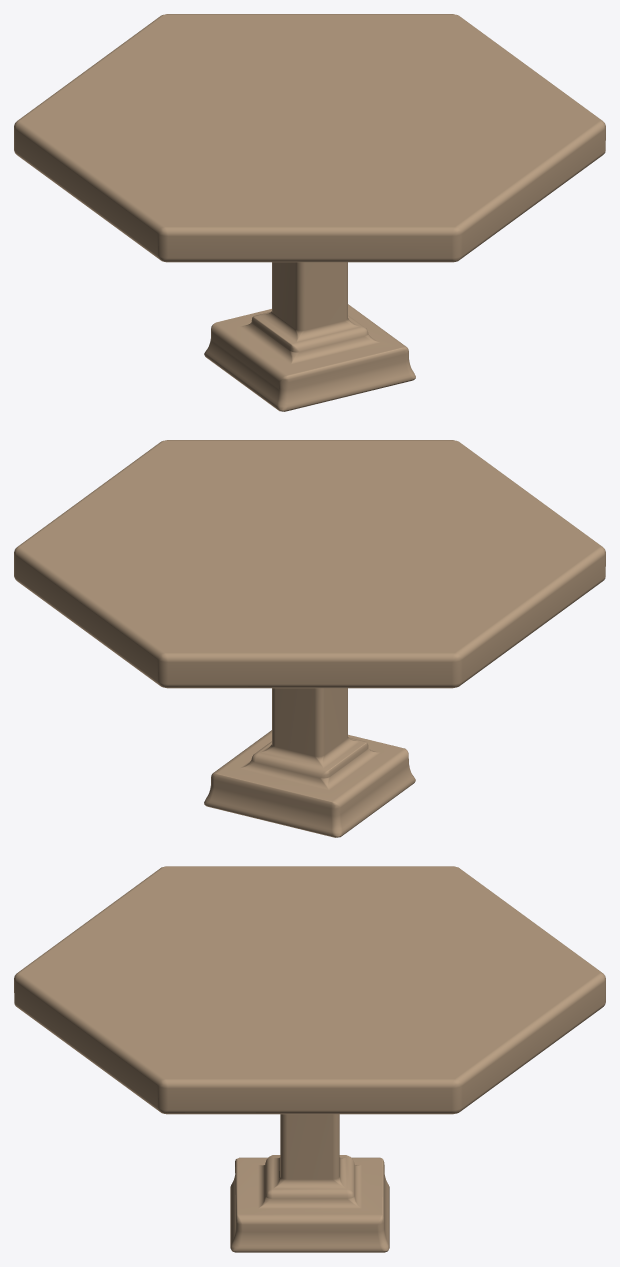
The model's file is tableRound.glb.
3 views of the same model, one above another, from view 1: azimuth 30°, elevation 25°; view 2: azimuth 150°, elevation 25°; view 3: azimuth 270°, elevation 25° (orthographic).
Parts seen in each view (by area): view 1: tableRound(Clone); view 2: tableRound(Clone); view 3: tableRound(Clone).
Part boxes in pixels (<box>): tableRound(Clone): <box>14,14,605,411</box>; tableRound(Clone): <box>14,440,605,837</box>; tableRound(Clone): <box>14,866,605,1252</box>.
Size of the model in its own units: 0.6928 by 0.3667 by 0.7945.
